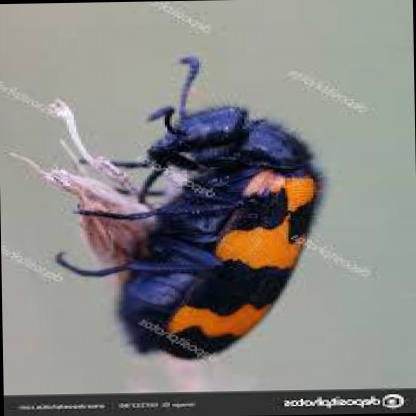blister beetle: (113, 55, 325, 365)
